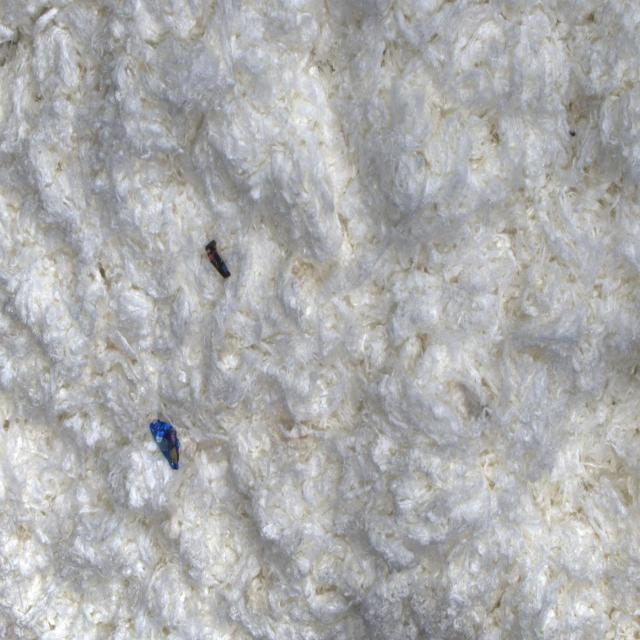dust: (147, 412, 186, 479), (199, 233, 236, 286)
